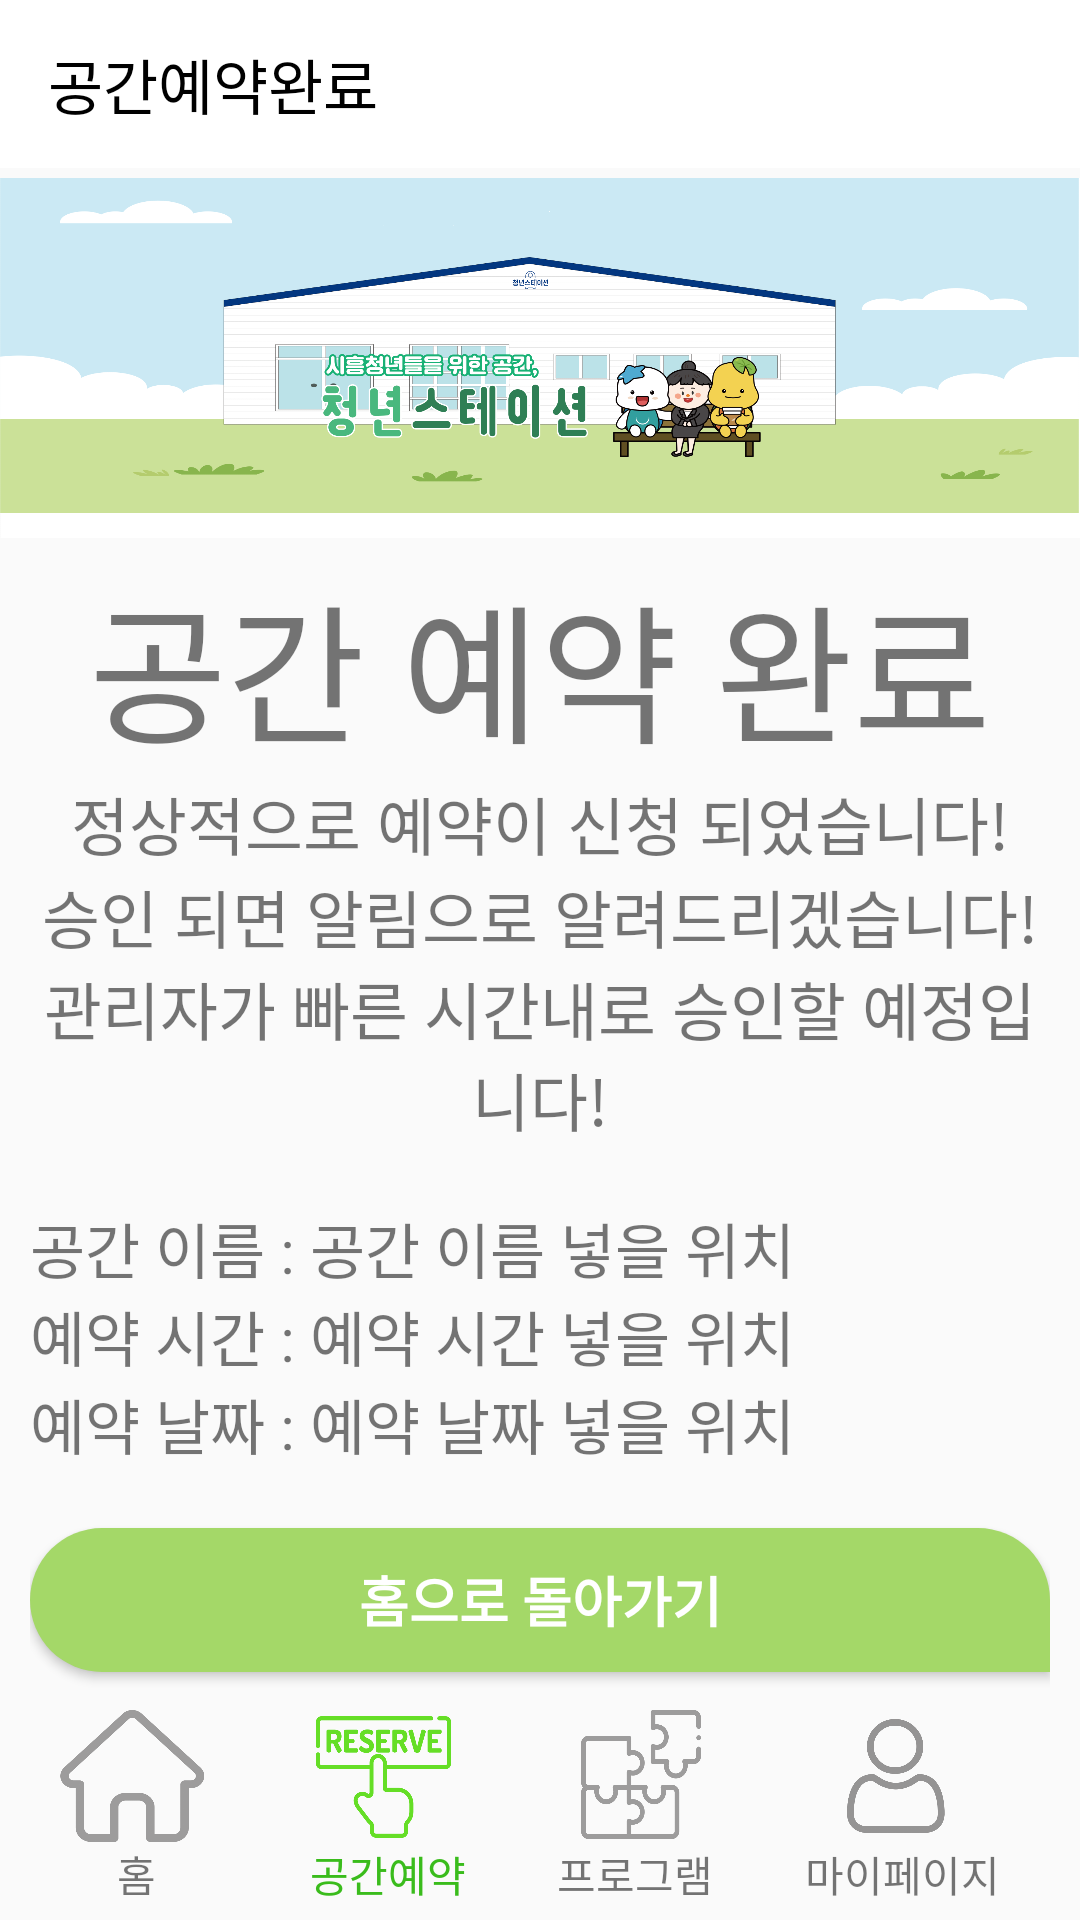

Named icons in this screenshot (1080 × 1920) and their bounding boxes, [x1=x1, y1=y1, x2=x2, y2=y2]:
puzzle: [x1=581, y1=1710, x2=701, y2=1839]
user: [x1=847, y1=1719, x2=945, y2=1833]
